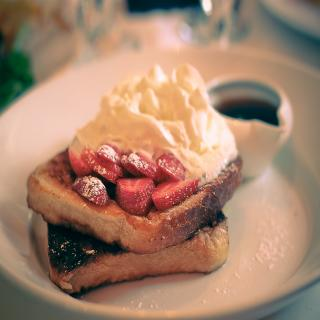Strawberry: (115, 164, 155, 220), (151, 179, 197, 212), (71, 172, 109, 209), (77, 152, 116, 185), (82, 144, 120, 177), (126, 153, 156, 180), (156, 154, 184, 182), (68, 146, 91, 176), (123, 152, 141, 178)
